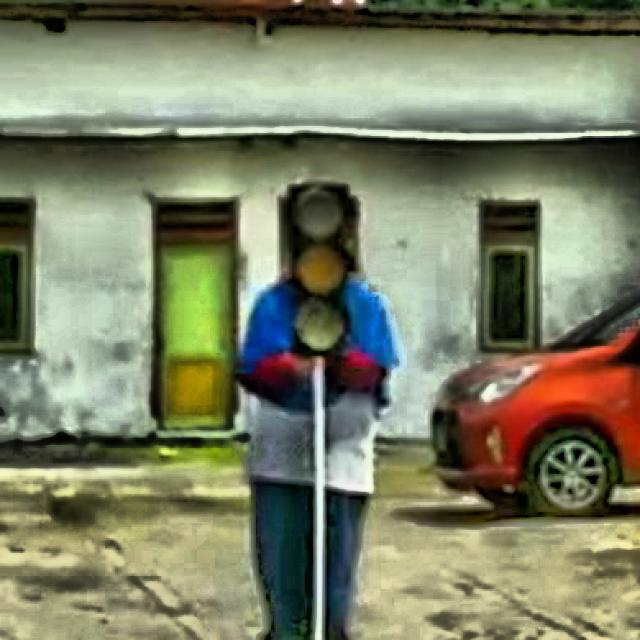yellow: (290, 180, 353, 360)
